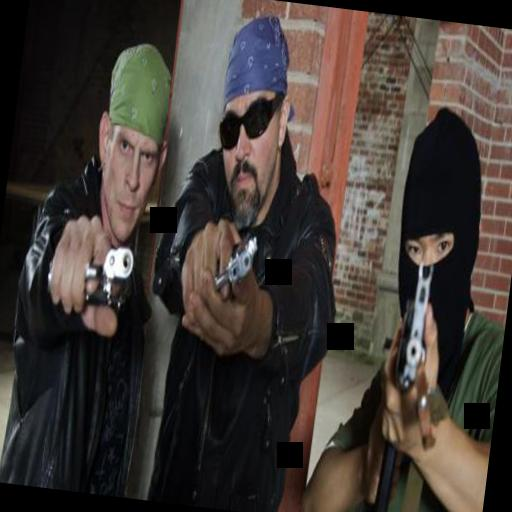Handgun: (371, 265, 434, 512), (179, 223, 258, 341), (43, 230, 135, 304)
